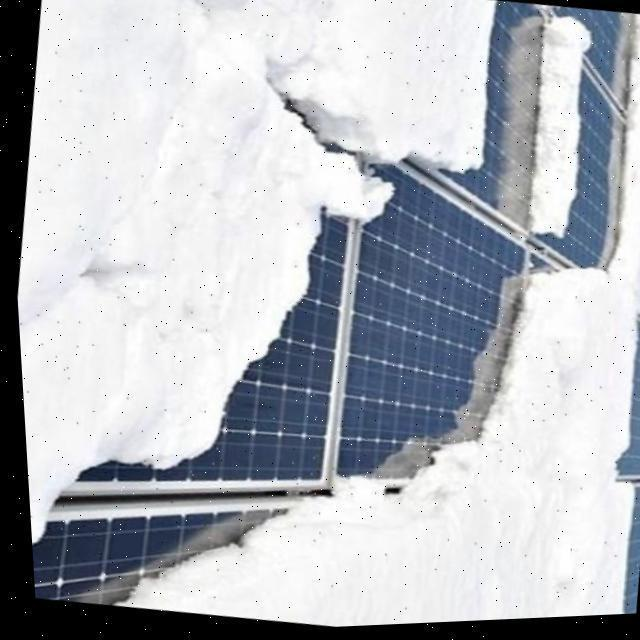Anomaly Solar Panel: (14, 0, 640, 630)
Snow: (105, 0, 640, 630), (14, 0, 502, 593), (519, 17, 595, 253)
